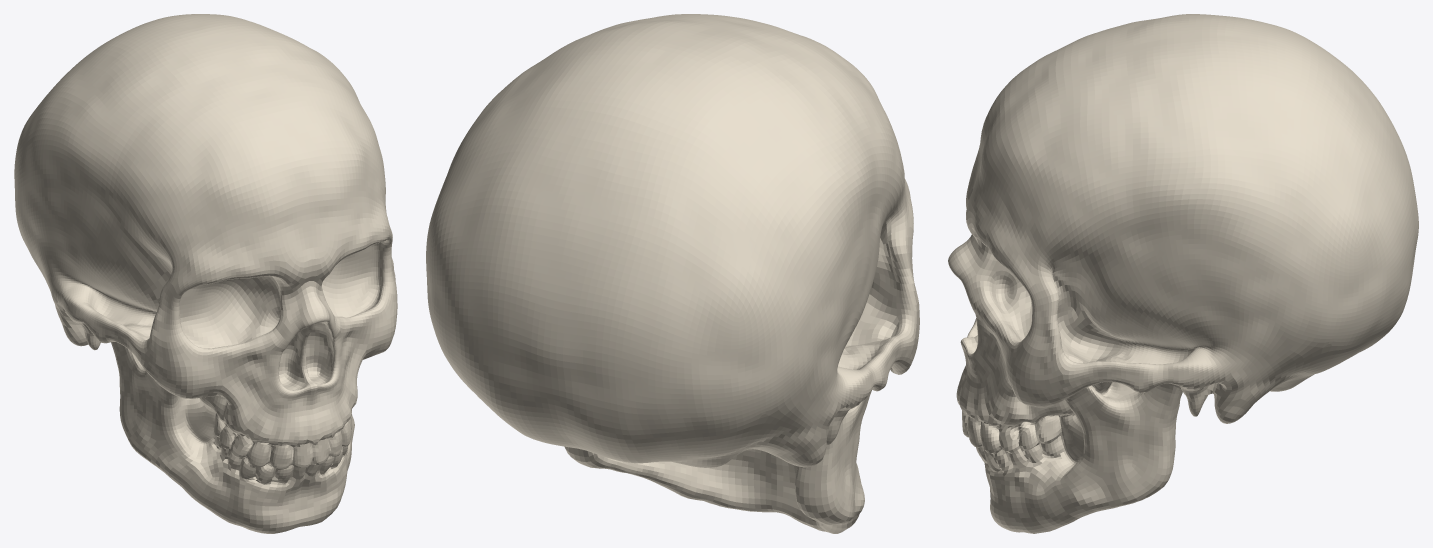
File: Skull.fbx
3 renders of one model, left to right at view 1: azimuth 30°, elevation 25°; view 2: azimuth 150°, elevation 25°; view 3: azimuth 270°, elevation 25°, orthographic. The views are drawn at different scales.
Visible parts, largest first — view 1: Skull; view 2: Skull; view 3: Skull.
Part boxes in pixels (x1=…): Skull: x1=14, y1=14, x2=397, y2=533; Skull: x1=426, y1=14, x2=919, y2=533; Skull: x1=948, y1=14, x2=1418, y2=533.
Size of the model in its own units: 14.97 by 20.93 by 18.6.
1 material, 1 textured.
